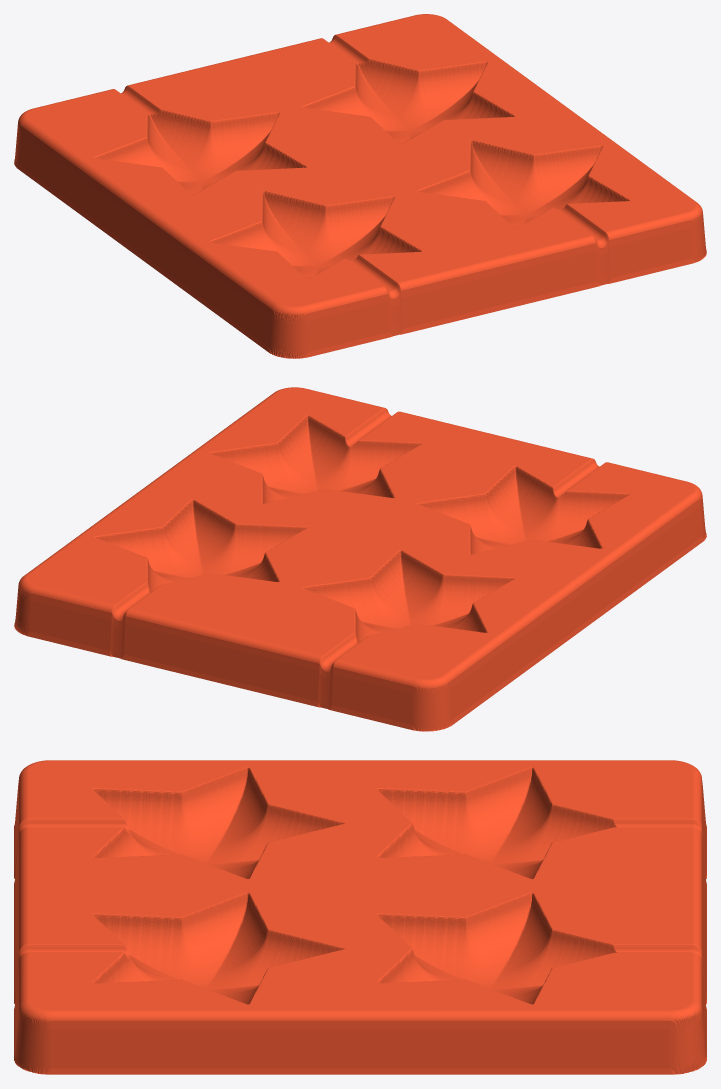
File: mold.glb
3 renders of one model, top to bottom at view 1: azimuth 30°, elevation 25°; view 2: azimuth 150°, elevation 25°; view 3: azimuth 270°, elevation 25°, orthographic. The views are drawn at different scales.
Parts seen in each view (by area): view 1: geometry_0; view 2: geometry_0; view 3: geometry_0.
Boxes of the visible parts, box(x1,y1,x2,y2) form: geometry_0: box(14, 14, 706, 358); geometry_0: box(14, 387, 706, 731); geometry_0: box(14, 760, 706, 1074).
Size of the model in its own units: 0.1497 by 0.0155 by 0.1674.
